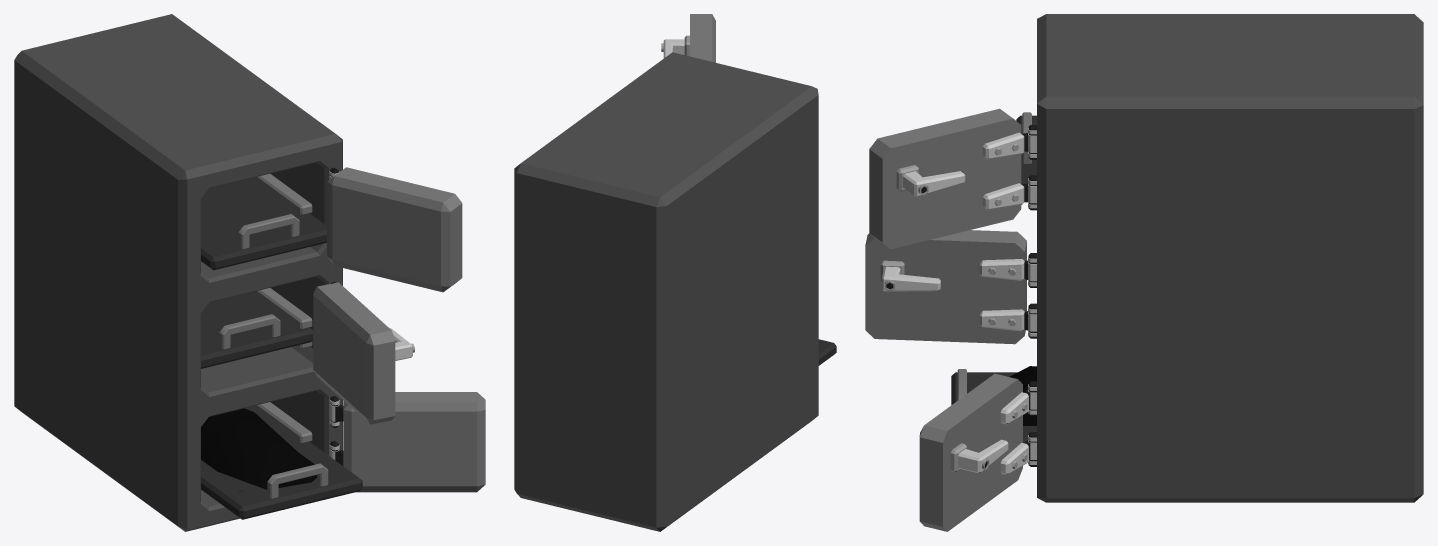
Rendered from Mortuary Freezer 03.fbx.
The picture shows the model from 3 angles, left to right: view 1: azimuth 30°, elevation 25°; view 2: azimuth 150°, elevation 25°; view 3: azimuth 270°, elevation 25°; orthographic projection. The views are drawn at different scales.
Parts seen in each view (by area): view 1: Mortuary_Freezer_03; view 2: Mortuary_Freezer_03; view 3: Mortuary_Freezer_03.
Boxes of the visible parts, x1,y1,x2,y2 form: Mortuary_Freezer_03: (14, 14, 485, 531); Mortuary_Freezer_03: (514, 14, 836, 531); Mortuary_Freezer_03: (865, 14, 1423, 531).
Bounding box in the file's own units: 211 × 278 × 347.
